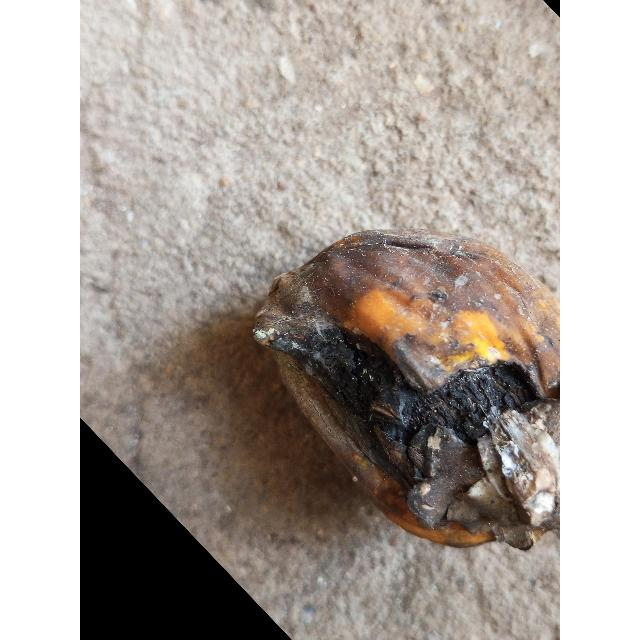damaged: (254, 231, 560, 549)
